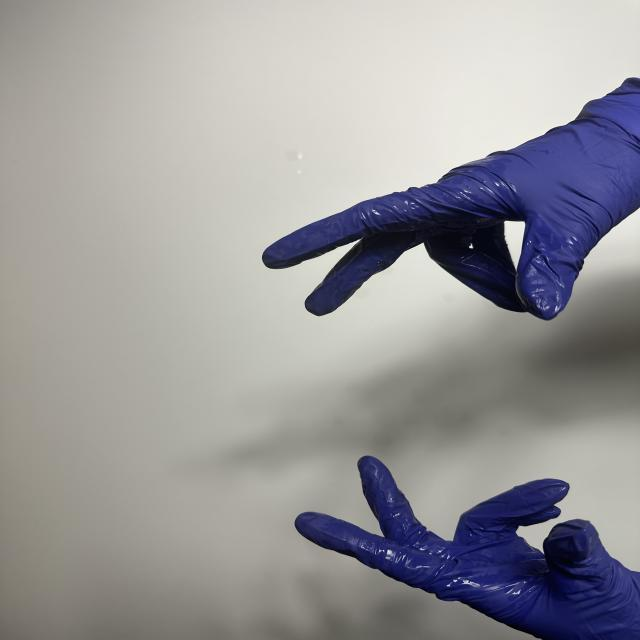gloves_contaminated: (262, 78, 640, 320), (295, 456, 640, 640)
